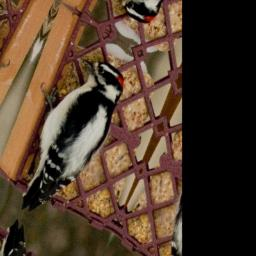Woodpecker: (0, 34, 131, 234)
